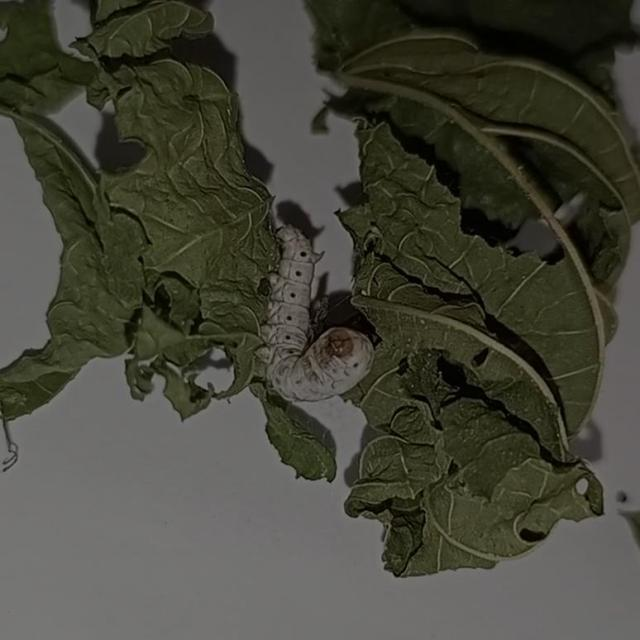Healthy: (246, 209, 398, 414)
